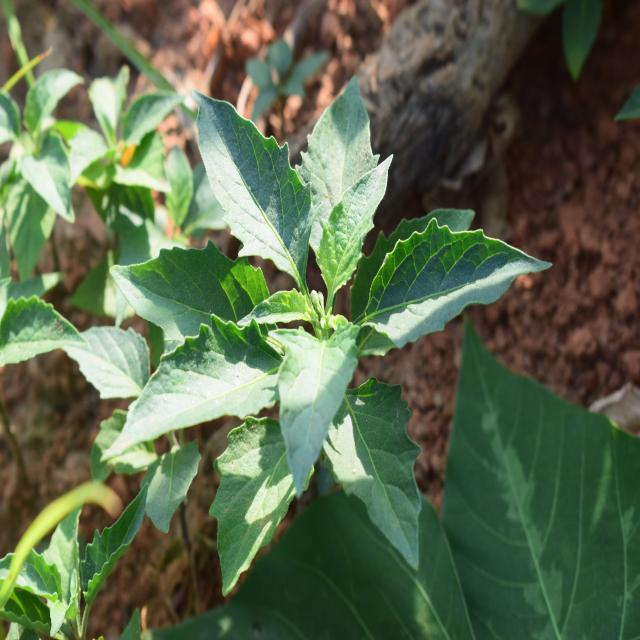Black_nightshade: (152, 108, 476, 540)
